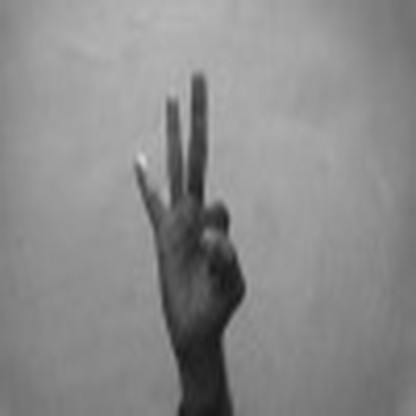f: (120, 63, 247, 367)
